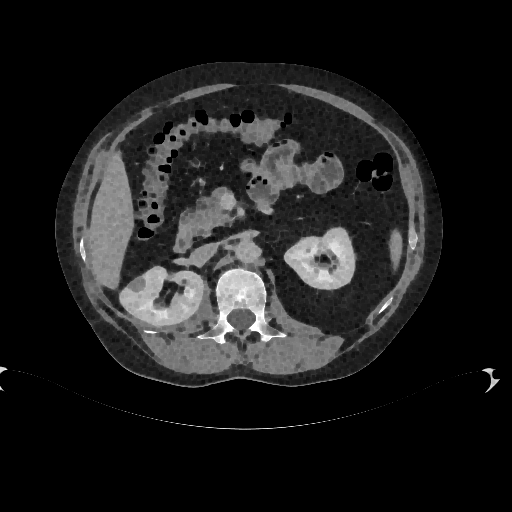Lesion: (128, 278, 146, 291)
